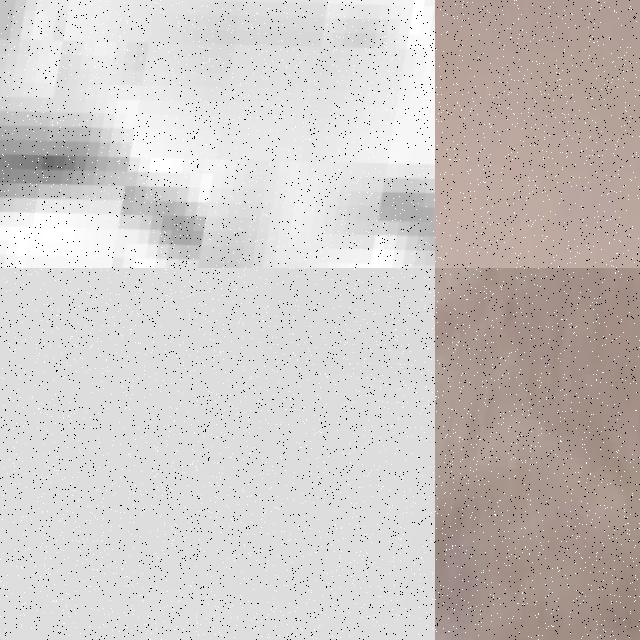drone: (0, 0, 435, 268), (435, 0, 640, 268)
